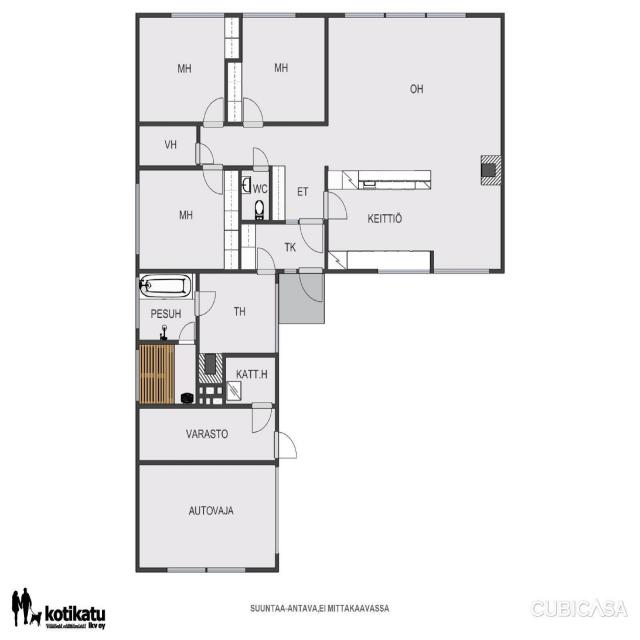door: (276, 521, 302, 553), (299, 268, 322, 304), (300, 220, 322, 255), (324, 191, 348, 219), (204, 94, 224, 126), (252, 404, 272, 436), (243, 95, 263, 125), (276, 432, 298, 458), (203, 166, 222, 196), (195, 300, 217, 324), (257, 245, 275, 273), (178, 319, 194, 345), (196, 143, 215, 164), (253, 146, 268, 170)
